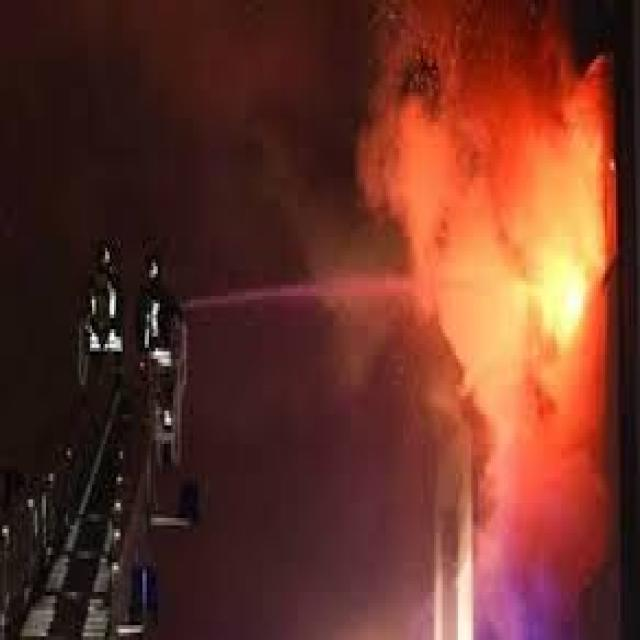Fire: (513, 190, 613, 387)
